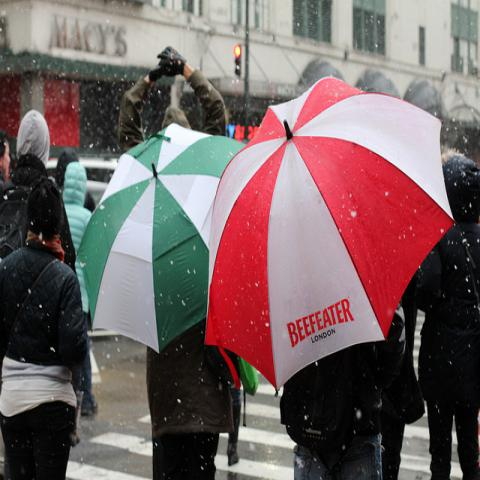car: (77, 157, 119, 206)
